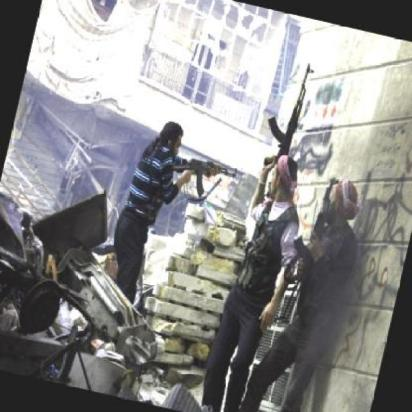Gun: (245, 57, 314, 223), (274, 173, 344, 323), (162, 147, 241, 210)
